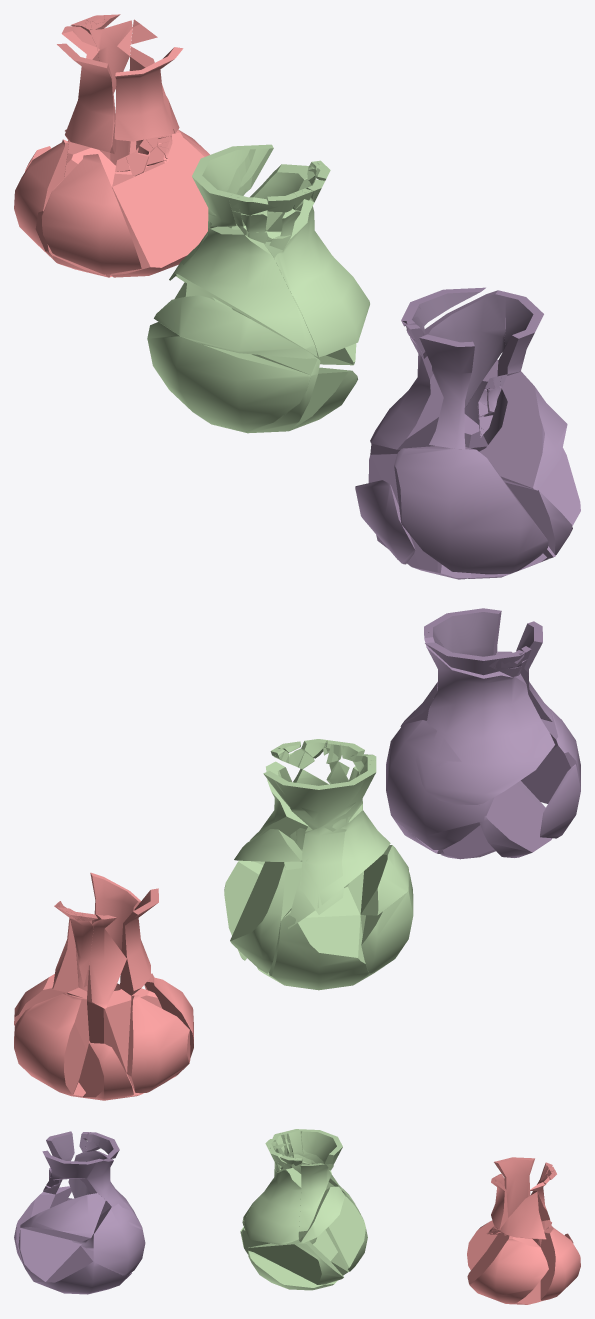
The model's file is vases_destroyed.fbx.
The picture shows the model from 3 angles, top to bottom: view 1: azimuth 30°, elevation 25°; view 2: azimuth 150°, elevation 25°; view 3: azimuth 270°, elevation 25°; orthographic projection. The views are drawn at different scales.
Parts seen in each view (by area): view 1: vase3_cell.001, vase2_cell.004, vase1_cell.013, vase2_cell.007, vase3_cell.005, vase1_cell.009, vase2_cell.013, vase3_cell.004, vase2_cell.008, vase1_cell.004, vase3_cell, vase1_cell.014 (+15 smaller); view 2: vase3_cell.005, vase2_cell.010, vase3_cell.003, vase1_cell.007, vase1_cell.011, vase2_cell.014, vase3_cell.010, vase2_cell.007, vase2_cell.012, vase3_cell.006, vase2_cell.004, vase1_cell.002 (+19 smaller); view 3: vase1_cell.013, vase2_cell.013, vase3_cell.003, vase3_cell.004, vase3_cell.002, vase2_cell, vase3_cell.012, vase1_cell.007, vase3_cell.005, vase2_cell.014, vase2_cell.011, vase1_cell.014 (+15 smaller).
Boxes of the visible parts, x1,y1,x2,y2 form: vase3_cell.001: (394, 446, 548, 574); vase2_cell.004: (147, 322, 310, 430); vase1_cell.013: (111, 129, 209, 277); vase2_cell.007: (173, 226, 317, 356); vase3_cell.005: (370, 290, 510, 449); vase1_cell.009: (41, 154, 141, 274); vase2_cell.013: (264, 199, 369, 357); vase3_cell.004: (464, 359, 567, 490); vase2_cell.008: (154, 295, 315, 358); vase1_cell.004: (114, 47, 183, 141); vase3_cell: (419, 334, 474, 449); vase1_cell.014: (57, 43, 116, 153); vase3_cell.005: (416, 632, 554, 804); vase2_cell.010: (269, 871, 375, 990); vase3_cell.003: (386, 720, 494, 849); vase1_cell.007: (14, 993, 89, 1094); vase1_cell.011: (127, 995, 190, 1093); vase2_cell.014: (230, 861, 285, 973); vase3_cell.010: (479, 780, 551, 857); vase2_cell.007: (288, 801, 390, 929); vase2_cell.012: (300, 816, 350, 914); vase3_cell.006: (424, 608, 501, 656); vase2_cell.004: (361, 872, 413, 973); vase1_cell.002: (67, 987, 179, 1075); vase1_cell.013: (467, 1232, 548, 1304); vase2_cell.013: (244, 1167, 301, 1244); vase3_cell.003: (93, 1202, 145, 1275); vase3_cell.004: (20, 1193, 105, 1242); vase3_cell.002: (33, 1245, 131, 1294); vase2_cell: (248, 1239, 343, 1284); vase3_cell.012: (18, 1228, 81, 1282); vase1_cell.007: (540, 1226, 580, 1300); vase3_cell.005: (68, 1150, 142, 1229); vase2_cell.014: (325, 1196, 367, 1271); vase2_cell.011: (299, 1163, 331, 1240); vase1_cell.014: (494, 1157, 534, 1217).
Bounding box in the file's own units: 3.47 × 3.4 × 12.5.
